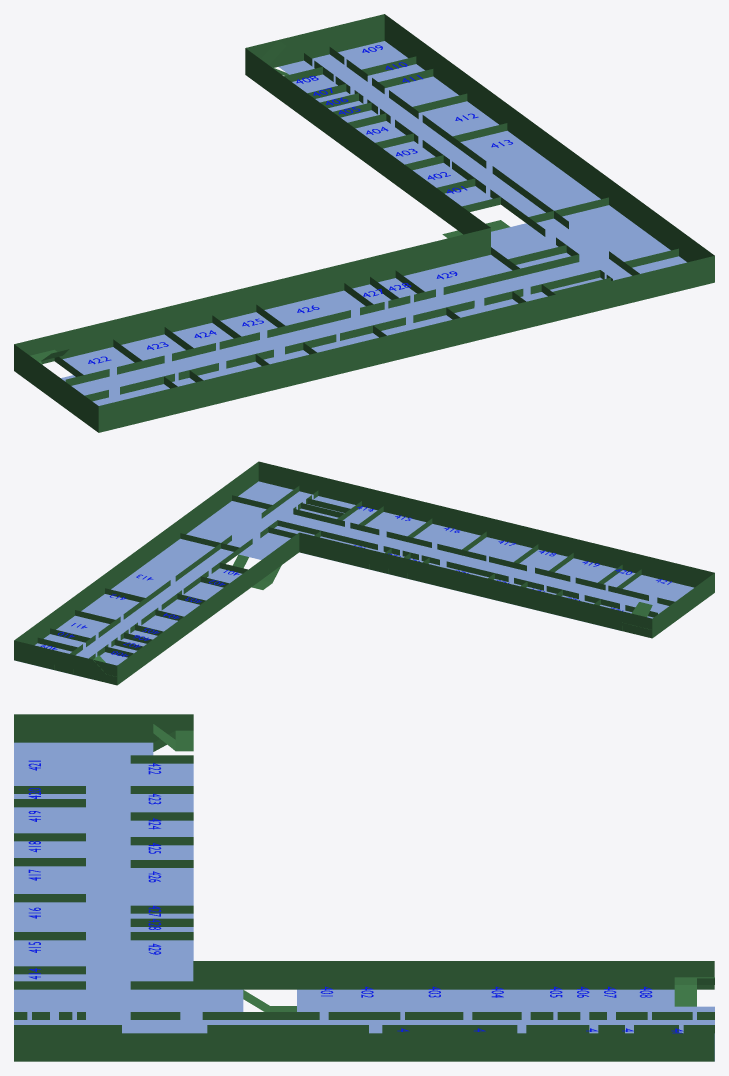
File: FourthFloor.glb
3 renders of one model, top to bottom at view 1: azimuth 30°, elevation 25°; view 2: azimuth 150°, elevation 25°; view 3: azimuth 270°, elevation 25°, orthographic. The views are drawn at different scales.
Visible parts, largest first — view 1: Outer walls.003, Floor.003, Inner wall.003; view 2: Outer walls.003, Floor.003, Inner wall.003, MainLadder.003; view 3: Floor.003, Outer walls.003, Inner wall.003, RightLadder.003, LeftLadder.002.
Part boxes in pixels (x1=…): Outer walls.003: x1=14, y1=14, x2=714, y2=432; Floor.003: x1=61, y1=41, x2=686, y2=405; Inner wall.003: x1=54, y1=47, x2=678, y2=401; Outer walls.003: x1=14, y1=461, x2=714, y2=685; Floor.003: x1=21, y1=481, x2=693, y2=679; Inner wall.003: x1=37, y1=486, x2=674, y2=674; MainLadder.003: x1=233, y1=554, x2=281, y2=589; Floor.003: x1=14, y1=742, x2=714, y2=1061; Outer walls.003: x1=14, y1=714, x2=714, y2=1061; Inner wall.003: x1=14, y1=755, x2=714, y2=1033; RightLadder.003: x1=674, y1=977, x2=714, y2=1006; LeftLadder.002: x1=153, y1=724, x2=193, y2=751.
Bounding box in the file's own units: 168 × 14 × 156.
